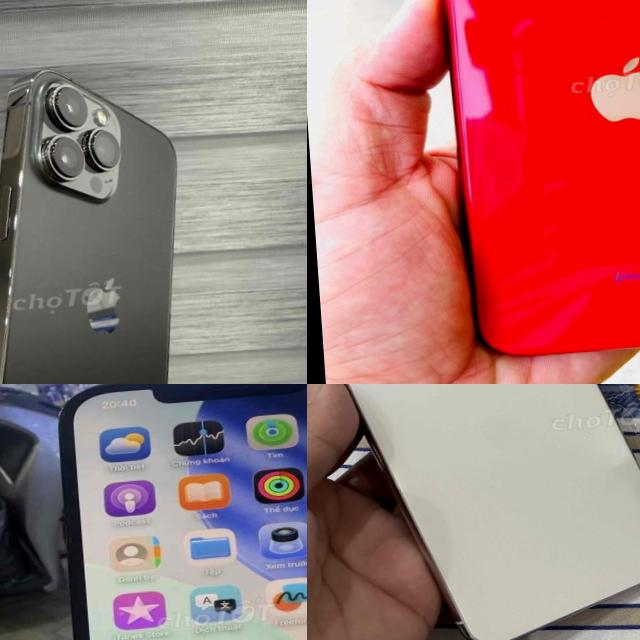gen_11: (307, 384, 640, 640), (414, 0, 640, 376)
gen_12_13: (0, 53, 211, 384), (37, 384, 307, 640)
